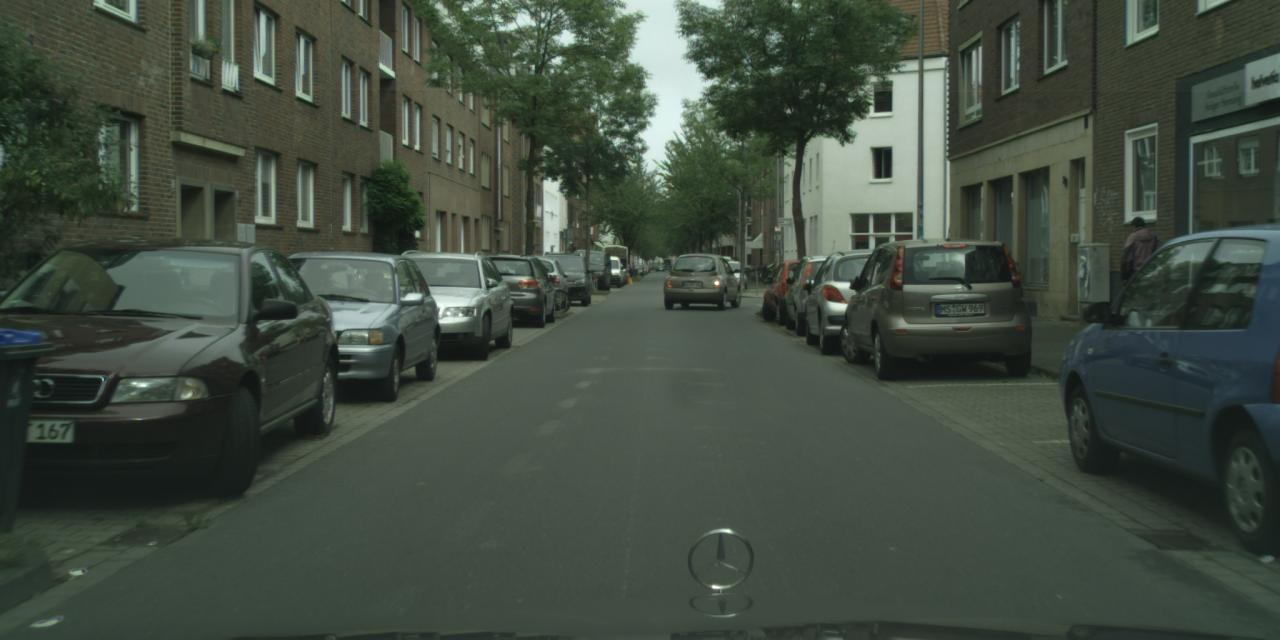ped: (1114, 216, 1166, 344)
